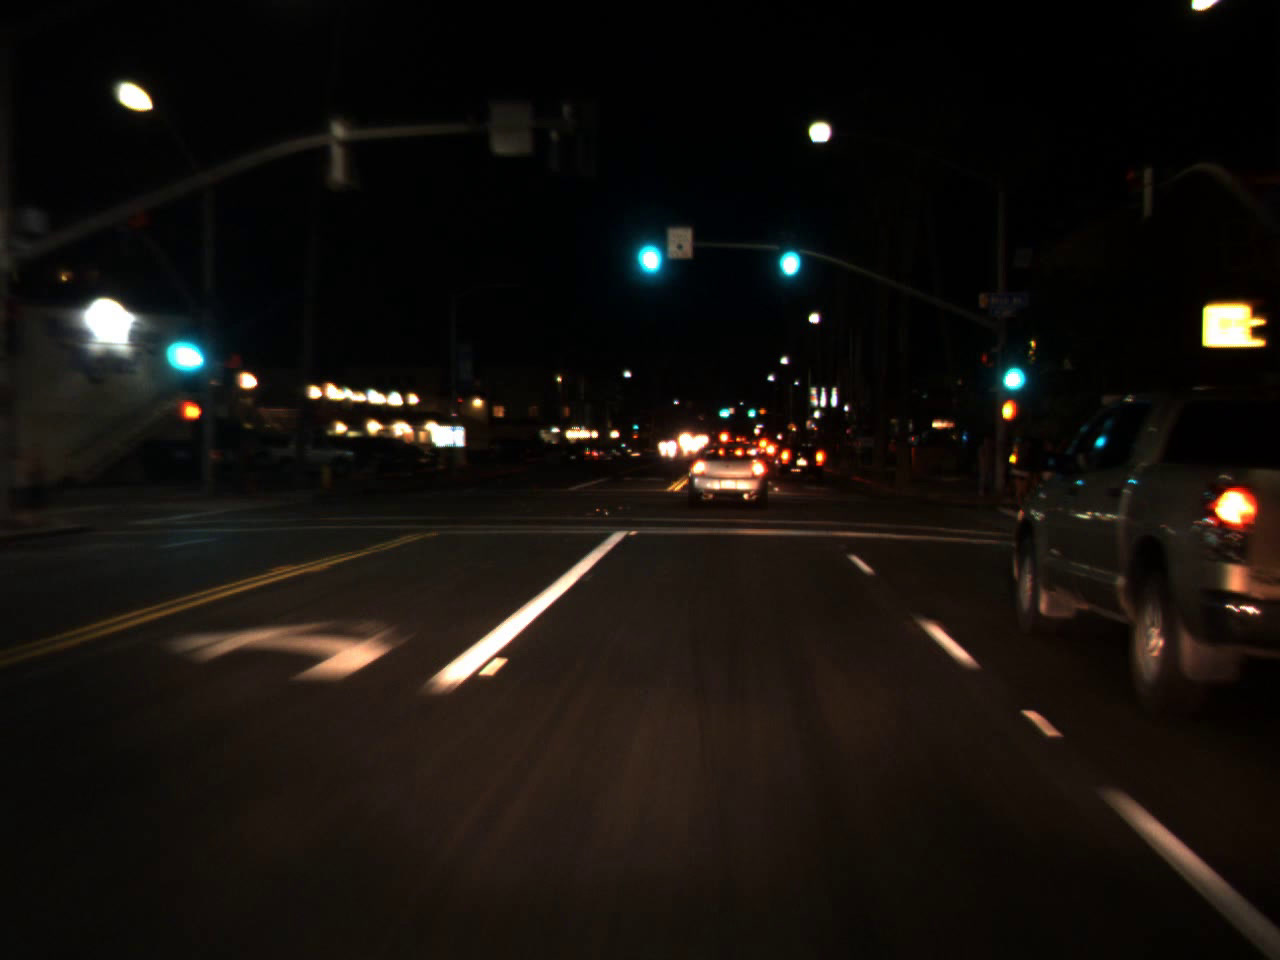go: (158, 305, 210, 383), (628, 207, 667, 285), (770, 219, 806, 285), (994, 336, 1030, 399), (715, 401, 733, 419), (746, 402, 756, 417)
